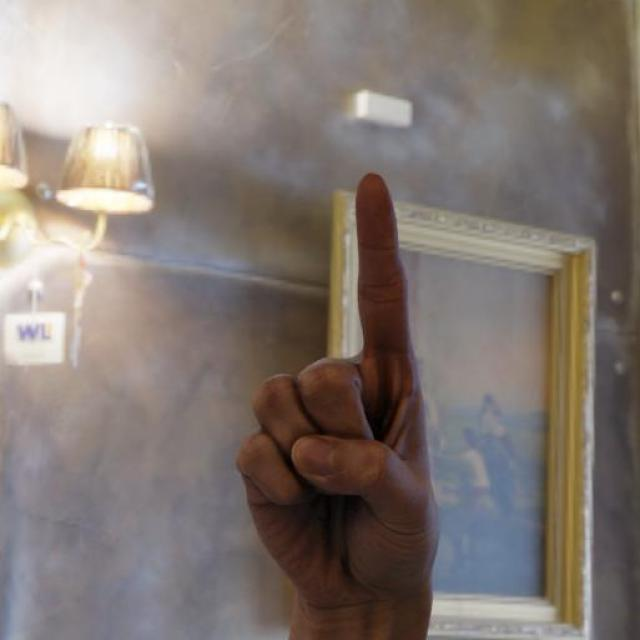Z: (231, 169, 445, 617)
